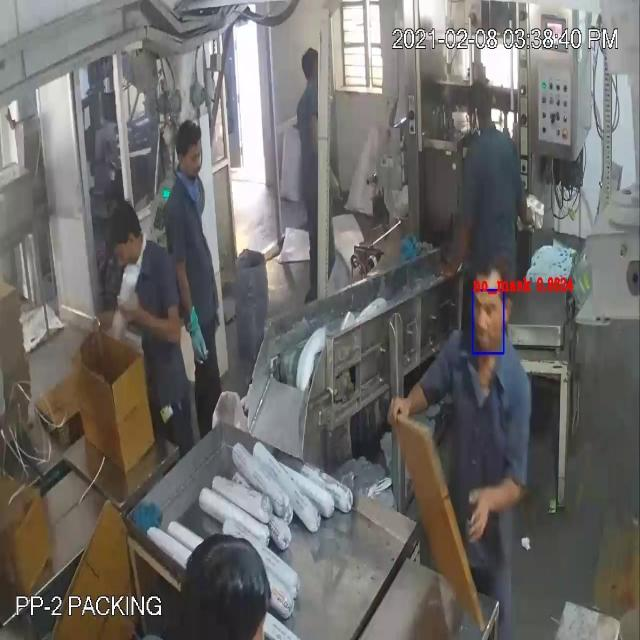No_Gloves: (45, 61, 506, 498)
